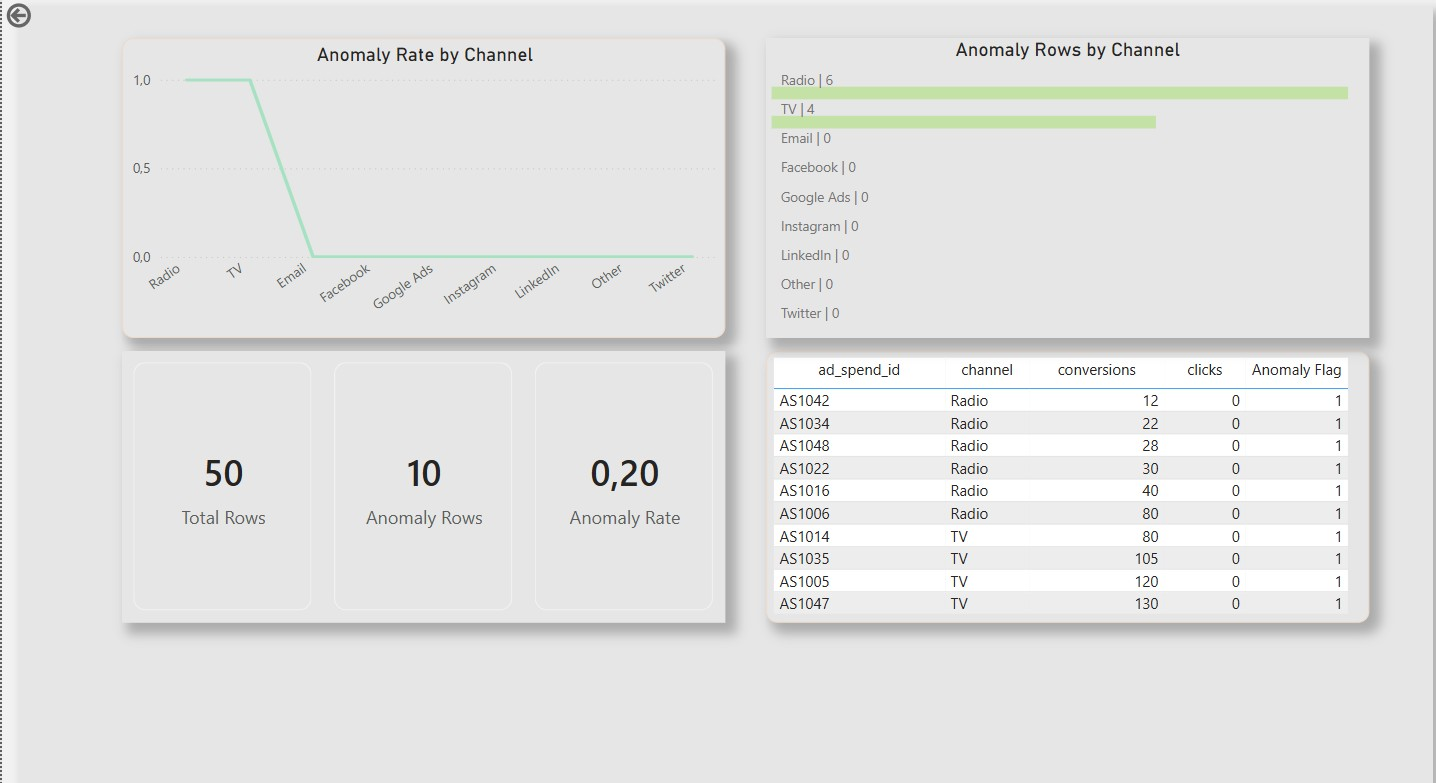

This screenshot's page, from the dashboard's own definition file:
{"tool":"powerbi","page":{"name":"Data Quality","canvas":[1280,720],"ordinal":5},"visuals":[{"type":"shape","box":[15.1,11.5,1253.8,697.8],"z":0},{"type":"lineChart","title":"Anomaly Rate by Channel","fields":{"Category":["Data.channel"],"Y":["Measure.Anomaly Rate"]},"box":[106.8,40.3,535.2,266.1],"z":1000},{"type":"tableEx","fields":{"Values":["Data.ad_spend_id","Data.channel","Data.conversions","Data.clicks","Data.Anomaly Flag"]},"box":[677.3,317.5,535.2,240.9],"z":2000},{"type":"actionButton","box":[0,0,29.9,40.4],"z":3000},{"type":"cardVisual","fields":{"Data":["Measure.Total Rows","Measure.Anomaly Rows","Measure.Anomaly Rate"]},"box":[106.8,317.5,535.2,240.9],"z":4000},{"type":"clusteredBarChart","title":"Anomaly Rows by Channel","fields":{"Y":["Measure.Labels Placeholder","Measure.Anomaly Rows"],"Category":["Data.channel"]},"box":[677.3,40.3,535.2,266.1],"z":5000}]}

Visuals, with their boxes on the page's 1280x720 design canvas (x1, y1, x2, y2). These are canvas units, not pixel positions in the 1436x783 screenshot, which may show the page scaled, cropped or inside an application window:
shape: 15 12 1269 709
"Anomaly Rate by Channel" lineChart: 107 40 642 306
tableEx - Data.ad_spend_id x Data.channel: 677 318 1212 558
actionButton: 0 0 30 40
cardVisual - Measure.Total Rows x Measure.Anomaly Rows: 107 318 642 558
"Anomaly Rows by Channel" clusteredBarChart: 677 40 1212 306
